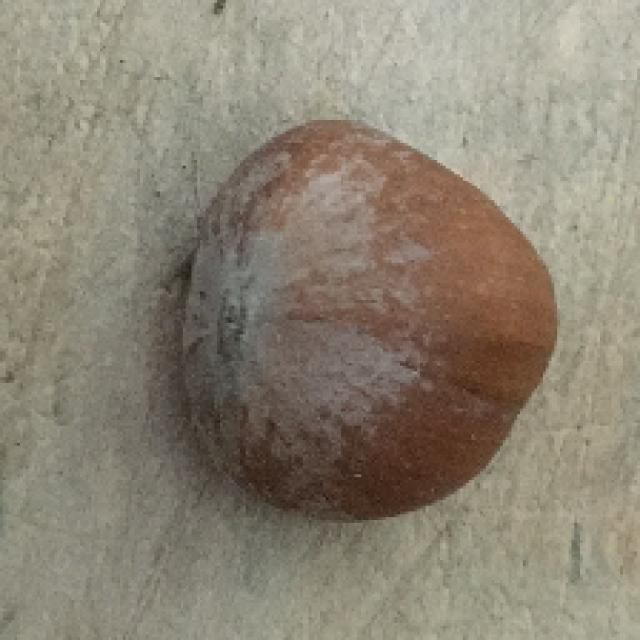QualityHazelnut: (184, 121, 563, 522)
